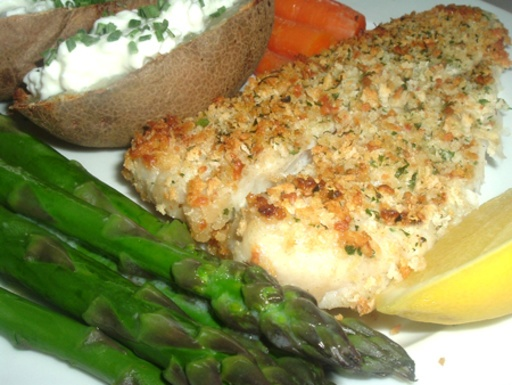background: (0, 0, 410, 232)
